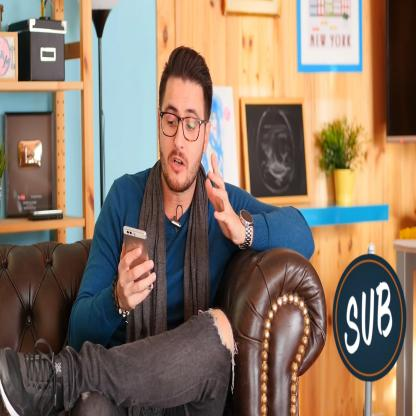smartphone: (122, 224, 152, 290)
